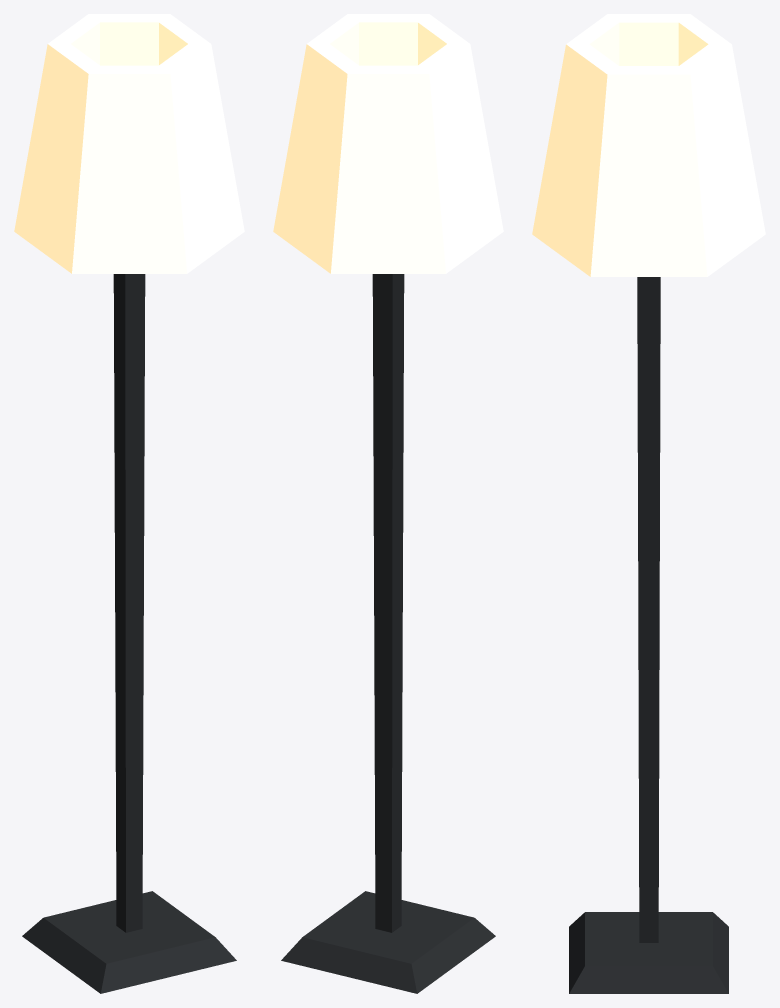
The model's file is lamp-floor-round.glb.
3 renders of one model, left to right at view 1: azimuth 30°, elevation 25°; view 2: azimuth 150°, elevation 25°; view 3: azimuth 270°, elevation 25°, orthographic.
Parts seen in each view (by area): view 1: lamp-floor-round; view 2: lamp-floor-round; view 3: lamp-floor-round.
Part boxes in pixels (x1=…): lamp-floor-round: x1=14, y1=14, x2=244, y2=993; lamp-floor-round: x1=273, y1=14, x2=503, y2=993; lamp-floor-round: x1=532, y1=14, x2=765, y2=993.
Size of the model in its own units: 0.32 by 1.6 by 0.37.
